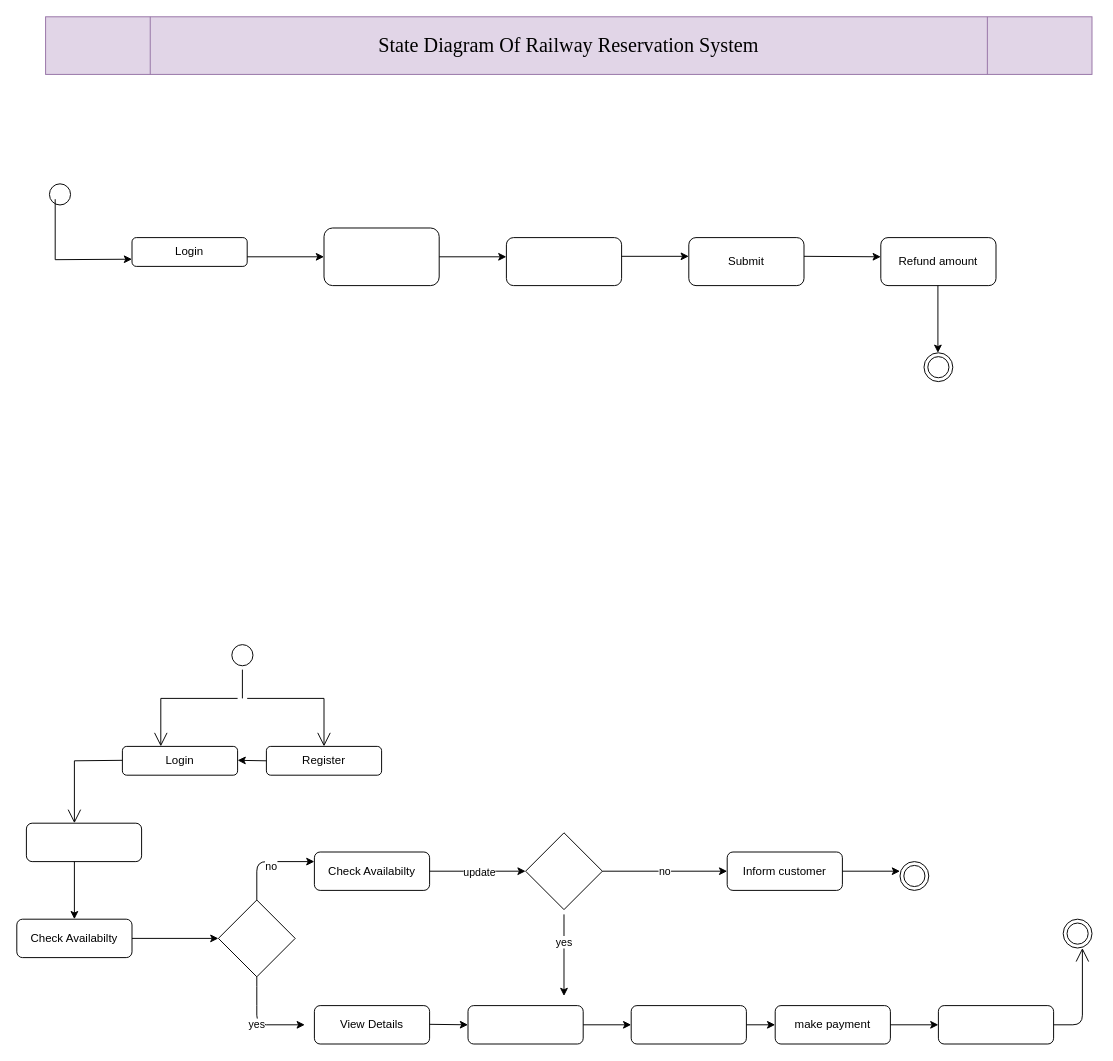
Image size: 1113x1061. Some labels were removed from this diagram. The centre of each missing label's shape, as x and y in pixels:
confirm reservation: point 995,1024
Fill form: point 563,261
Request reservation cancellation: point 381,256
Reserve Ticket: point 525,1024
Search train: point 83,842
select payment method: point 688,1024
